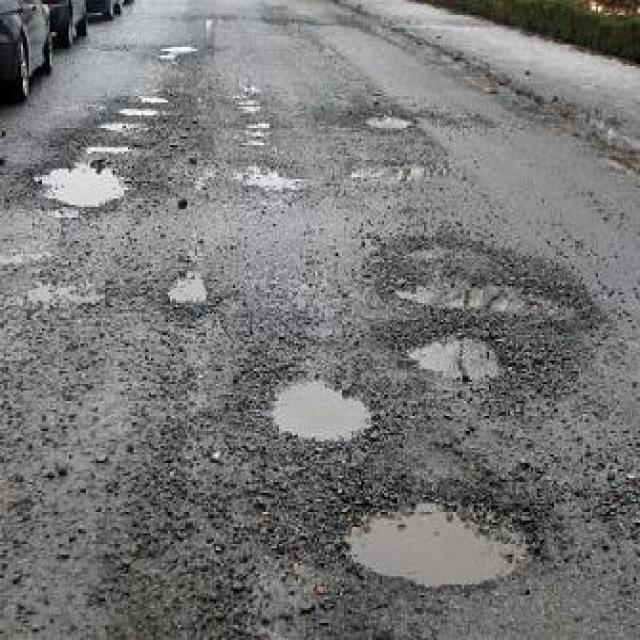pothole: (338, 484, 545, 587), (376, 239, 588, 318), (267, 365, 384, 446), (402, 320, 526, 384), (30, 156, 132, 207), (164, 268, 214, 306), (365, 111, 418, 130), (158, 38, 200, 60), (116, 100, 162, 115), (99, 117, 147, 128)
